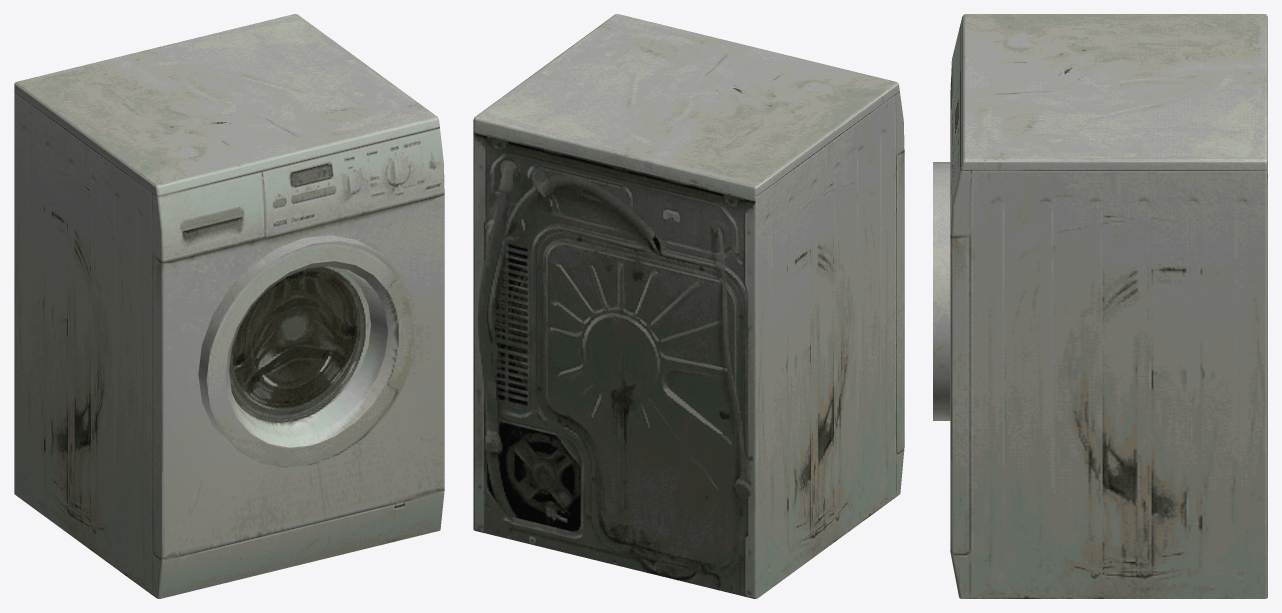
File: SM_WashingMachine.fbx
3 views of the same model, side by side, from view 1: azimuth 30°, elevation 25°; view 2: azimuth 150°, elevation 25°; view 3: azimuth 270°, elevation 25° (orthographic). The views are drawn at different scales.
Visible parts, largest first — view 1: SM_WashingMachine; view 2: SM_WashingMachine; view 3: SM_WashingMachine.
Part boxes in pixels (x1=…): SM_WashingMachine: x1=14, y1=14, x2=444, y2=598; SM_WashingMachine: x1=473, y1=14, x2=904, y2=598; SM_WashingMachine: x1=933, y1=14, x2=1267, y2=598.
Bounding box in the file's own units: 57.33 × 79.58 × 55.04.
Materials: 1 (1 with a texture image).
